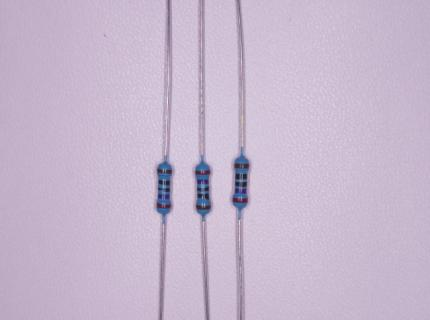Black band: (235, 181, 247, 187), (198, 194, 209, 200), (235, 174, 247, 179), (197, 186, 209, 191), (158, 180, 170, 185), (158, 187, 170, 192)
Brown band: (196, 204, 210, 210), (234, 163, 249, 168), (157, 169, 172, 173)
Red band: (157, 203, 171, 209), (232, 198, 247, 203), (196, 170, 210, 174)
Violet band: (235, 188, 247, 194), (158, 193, 170, 198), (197, 179, 208, 184)
